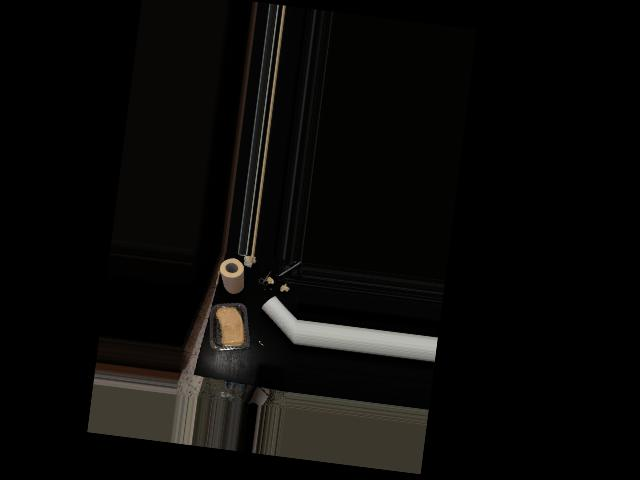cheese: (208, 299, 253, 354)
